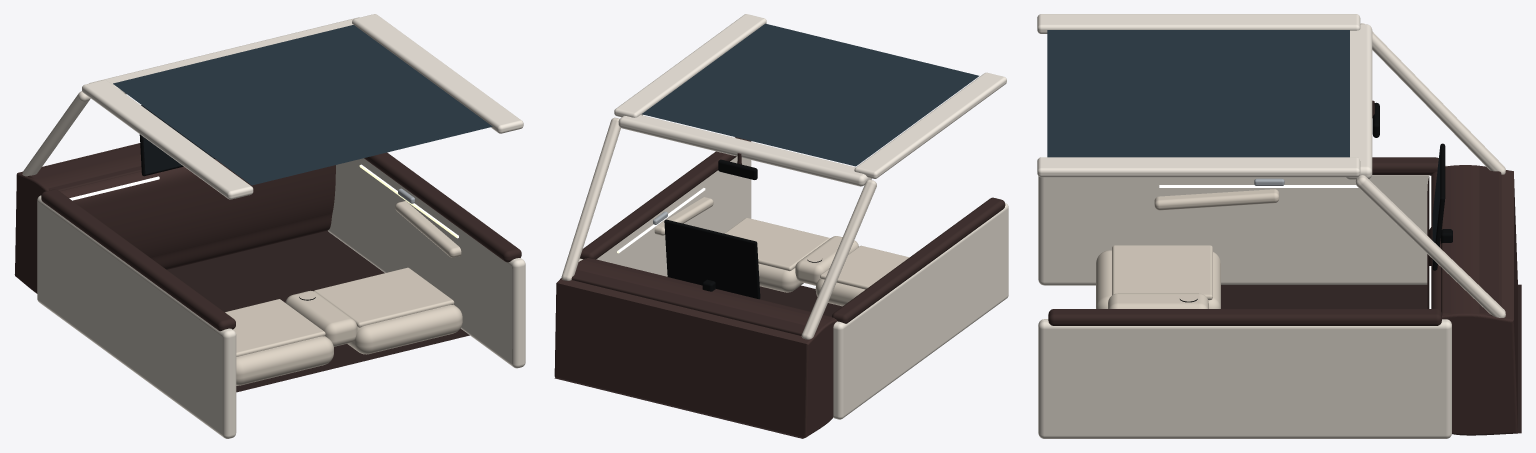
Rendered from cabin-driverless.glb.
The picture shows the model from 3 angles, left to right: view 1: azimuth 30°, elevation 25°; view 2: azimuth 150°, elevation 25°; view 3: azimuth 270°, elevation 25°; orthographic projection. The views are drawn at different scales.
Parts seen in each view (by area): view 1: DoorTrim (×2), GlassRoof, Dashboard, Floor, WindowSill (×2), RoofRailL, RearSeatStitchR, RoofRailR, RearSeatStitchL, RearSeatCushionR, RearSeatCushionL, RearArmrest (+5 smaller); view 2: Dashboard, GlassRoof, DoorTrim (×2), WindowSill (×2), ScreenBezel, HeaderRail, DashTop, RoofRailL, RoofRailR, RearSeatStitchR, APillarL, APillarR (+7 smaller); view 3: DoorTrim (×2), GlassRoof, Dashboard, WindowSill (×2), RoofRailR, Floor, RoofRailL, RearSeatStitchL, DashTop, HeaderRail, APillarR, APillarL (+6 smaller).
Part boxes in pixels (left/top/right/bottom): DoorTrim (×2): left=37, top=158, right=525, bottom=438; GlassRoof: left=113, top=25, right=492, bottom=185; Dashboard: left=15, top=143, right=335, bottom=293; Floor: left=14, top=231, right=469, bottom=392; WindowSill (×2): left=41, top=152, right=521, bottom=331; RoofRailL: left=82, top=80, right=253, bottom=199; RearSeatStitchR: left=314, top=267, right=454, bottom=327; RoofRailR: left=352, top=14, right=523, bottom=133; RearSeatStitchL: left=225, top=299, right=325, bottom=356; RearSeatCushionR: left=347, top=304, right=462, bottom=354; RearSeatCushionL: left=236, top=336, right=333, bottom=385; RearArmrest: left=285, top=290, right=357, bottom=346; Dashboard: left=554, top=258, right=837, bottom=438; GlassRoof: left=642, top=23, right=978, bottom=166; DoorTrim (×2): left=578, top=156, right=1008, bottom=419; WindowSill (×2): left=580, top=137, right=1005, bottom=323; ScreenBezel: left=664, top=219, right=760, bottom=299; HeaderRail: left=618, top=115, right=871, bottom=186; DashTop: left=571, top=258, right=834, bottom=335; RoofRailL: left=854, top=72, right=1006, bottom=178; RoofRailR: left=614, top=14, right=766, bottom=117; RearSeatStitchR: left=725, top=218, right=829, bottom=271; APillarL: left=801, top=179, right=876, bottom=339; APillarR: left=561, top=117, right=620, bottom=280; DoorTrim (×2): left=1038, top=165, right=1451, bottom=438; GlassRoof: left=1047, top=30, right=1349, bottom=157; Dashboard: left=1427, top=165, right=1517, bottom=435; WindowSill (×2): left=1048, top=157, right=1441, bottom=325; RoofRailR: left=1037, top=157, right=1360, bottom=177; Floor: left=1221, top=284, right=1521, bottom=433; RoofRailL: left=1037, top=14, right=1360, bottom=33; RearSeatStitchL: left=1112, top=245, right=1212, bottom=300; DashTop: left=1441, top=166, right=1501, bottom=316; HeaderRail: left=1345, top=24, right=1372, bottom=179; APillarR: left=1355, top=175, right=1505, bottom=317; APillarL: left=1360, top=23, right=1505, bottom=174.
Size of the model in its own units: 1.89 by 1.48 by 2.4.
